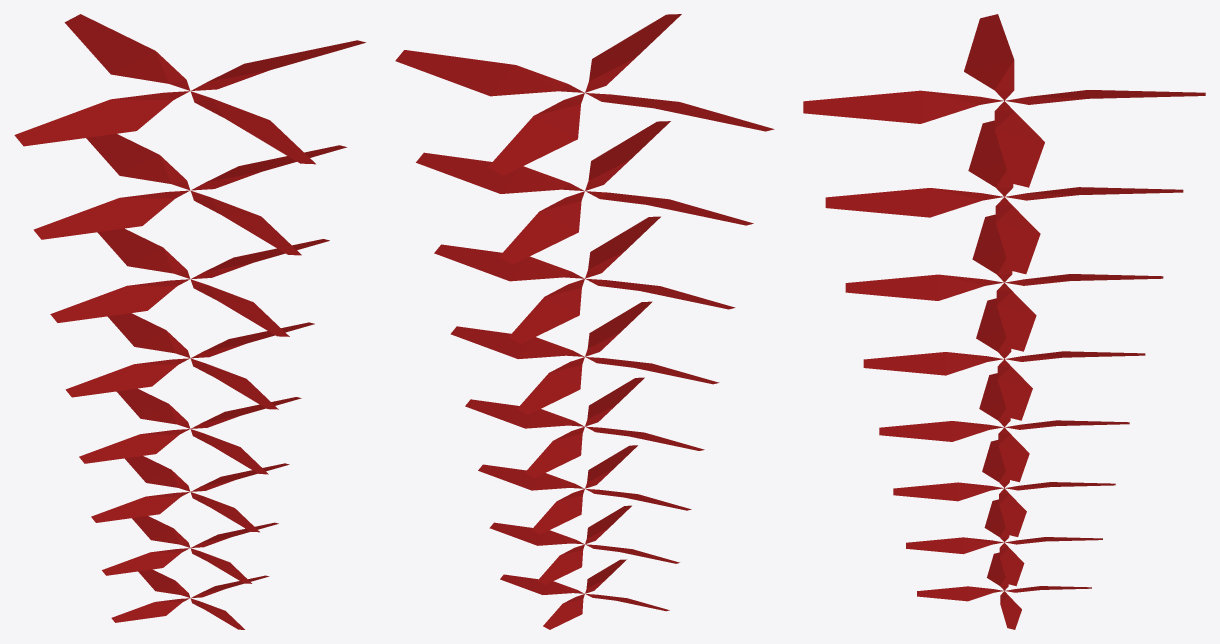
File: turbine_blades.obj
The picture shows the model from 3 angles, left to right: view 1: azimuth 30°, elevation 25°; view 2: azimuth 150°, elevation 25°; view 3: azimuth 270°, elevation 25°; orthographic projection. The views are drawn at different scales.
Visible parts, largest first — view 1: Plane; view 2: Plane; view 3: Plane.
Part boxes in pixels (bbox=[...]): Plane: bbox=[14, 14, 365, 629]; Plane: bbox=[395, 14, 774, 629]; Plane: bbox=[803, 14, 1205, 629].
Size of the model in its own units: 1.26 by 1.73 by 1.26.
